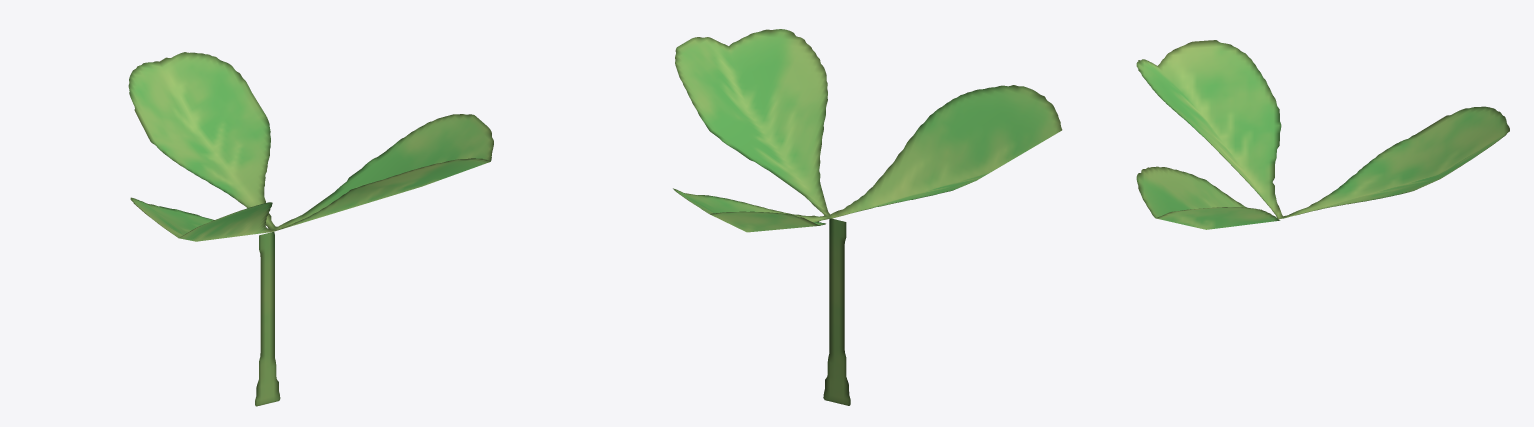
Rendered from LeafSetG_6.fbx.
The picture shows the model from 3 angles, left to right: view 1: azimuth 30°, elevation 25°; view 2: azimuth 150°, elevation 25°; view 3: azimuth 270°, elevation 25°; orthographic projection. The views are drawn at different scales.
Visible parts, largest first — view 1: LeafSetG_6; view 2: LeafSetG_6; view 3: LeafSetG_6.
Part boxes in pixels (box(x1,y1,x2,y2)): LeafSetG_6: box(128, 52, 493, 406); LeafSetG_6: box(673, 29, 1062, 405); LeafSetG_6: box(1136, 40, 1509, 229).
Size of the model in its own units: 0.2316 by 0.178 by 0.2165.
